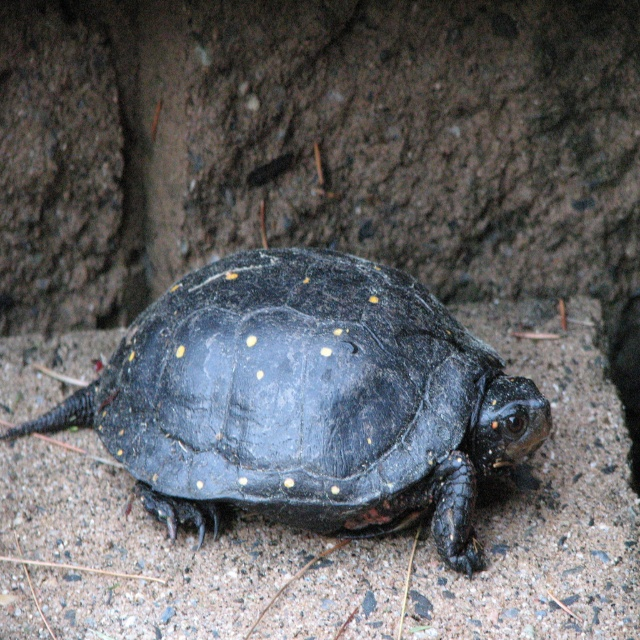Tortoise: (0, 247, 552, 582)
